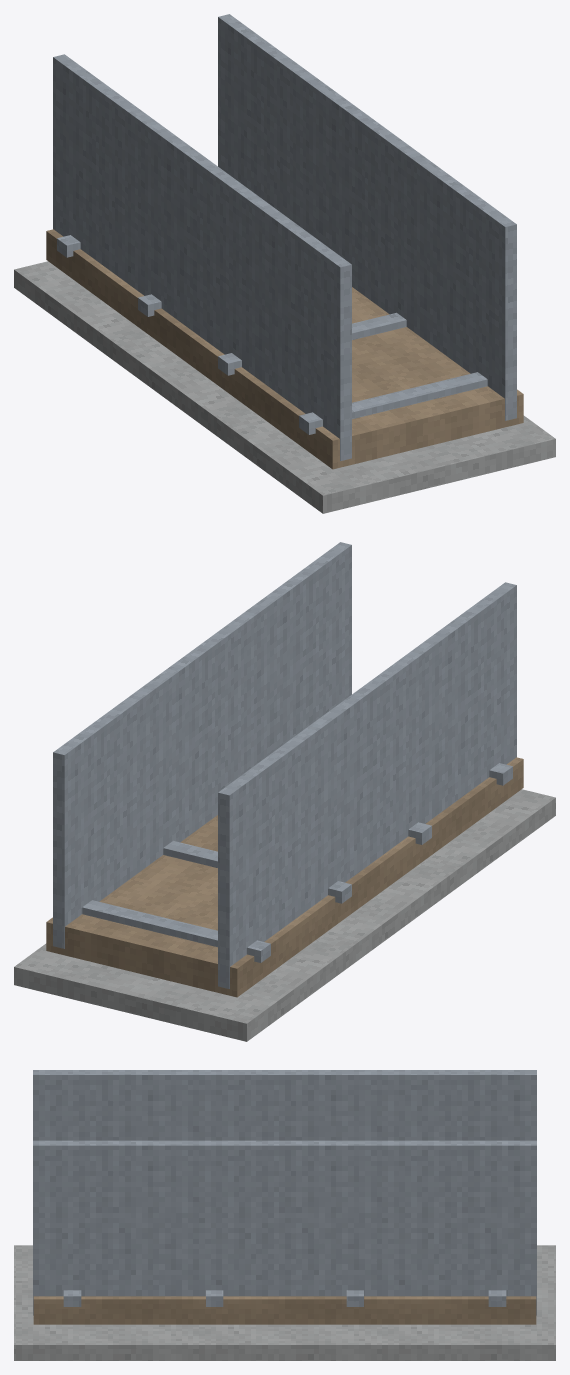
File: level_blockout_ship_gangway_rails.glb
3 renders of one model, top to bottom at view 1: azimuth 30°, elevation 25°; view 2: azimuth 150°, elevation 25°; view 3: azimuth 270°, elevation 25°, orthographic. The views are drawn at different scales.
Visible parts, largest first — view 1: level_blockout_ship_gangway_rails; view 2: level_blockout_ship_gangway_rails; view 3: level_blockout_ship_gangway_rails.
Part boxes in pixels (x1,y1,x2,y2): level_blockout_ship_gangway_rails: (14, 14, 555, 513); level_blockout_ship_gangway_rails: (14, 542, 555, 1041); level_blockout_ship_gangway_rails: (14, 1070, 555, 1360).
Size of the model in its own units: 1.61 by 1.53 by 3.7.
Materials: 3 (3 with a texture image).
